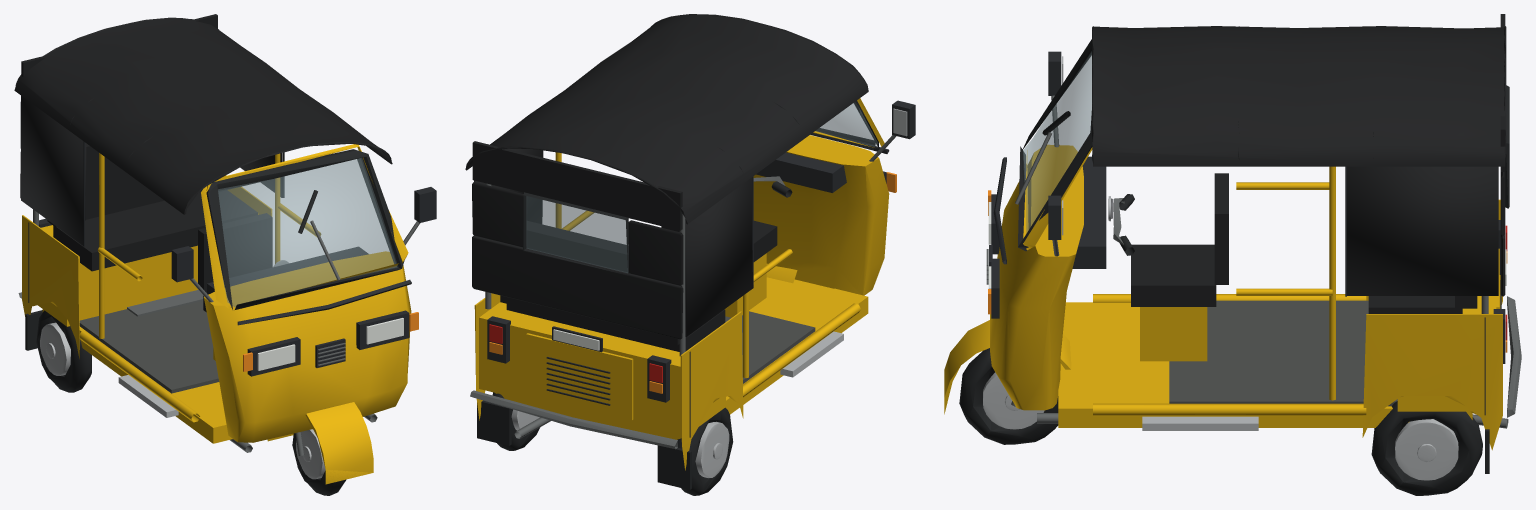
Rendered from keke_tvs_lod1.glb.
3 renders of one model, left to right at view 1: azimuth 30°, elevation 25°; view 2: azimuth 150°, elevation 25°; view 3: azimuth 270°, elevation 25°, orthographic. The views are drawn at different scales.
Parts seen in each view (by area): view 1: Body, Fork, Wheel_Rear_Left, Wheel_Front; view 2: Body, Wheel_Rear_Left, Wheel_Rear_Right; view 3: Body, Wheel_Rear_Right, Wheel_Front, Fork.
Boxes of the visible parts, bbox=[...] form: Body: bbox=[14, 14, 436, 452]; Fork: bbox=[267, 402, 373, 484]; Wheel_Rear_Left: bbox=[36, 310, 91, 392]; Wheel_Front: bbox=[292, 429, 346, 495]; Body: bbox=[465, 14, 915, 489]; Wheel_Rear_Left: bbox=[677, 407, 733, 495]; Wheel_Rear_Right: bbox=[492, 392, 540, 450]; Body: bbox=[986, 14, 1521, 473]; Wheel_Rear_Right: bbox=[1371, 401, 1482, 495]; Wheel_Front: bbox=[959, 348, 1058, 444]; Fork: bbox=[944, 320, 1071, 414].
Size of the model in its own units: 1.62 by 1.92 by 2.58.
